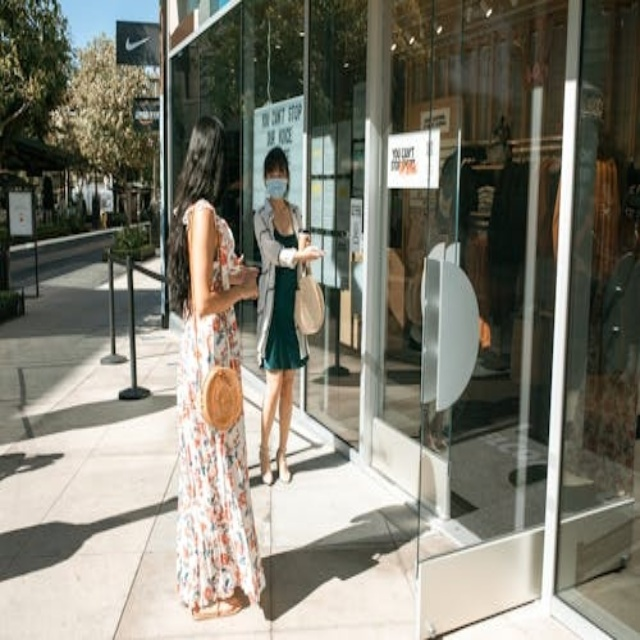Mascara: (265, 177, 288, 200)
Sin_guantes: (230, 277, 257, 306), (297, 238, 317, 263)
